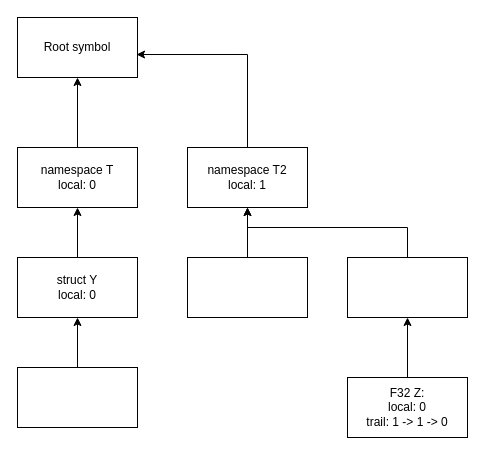
Some shapes in this 485 by 455 pixel diagram are drawn without their labels. Each missing label, with the centre of its shape:
"F32 test() local: 1" goes at pixel 407 287.
"F32 W local: 0" goes at pixel 247 287.
"F32 Z: local: 0 trail: 0 -> 0 -> 0" goes at pixel 77 397.
